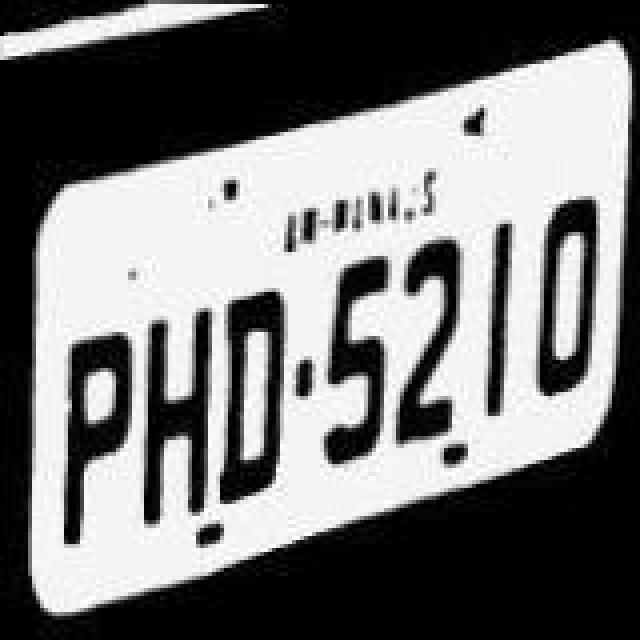1: (478, 196, 518, 440)
2: (388, 230, 464, 442)
5: (318, 244, 390, 468)
D: (212, 270, 288, 510)
H: (140, 288, 216, 532)
O: (536, 186, 604, 402)
P: (58, 304, 138, 564)
